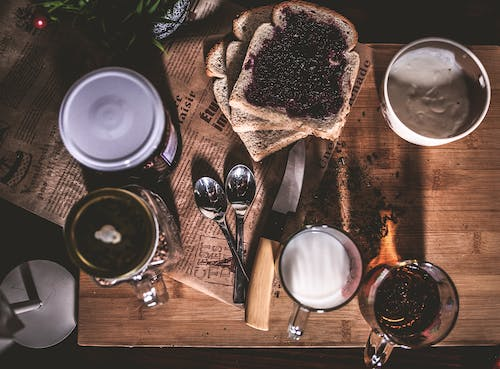knife: (243, 138, 307, 333)
